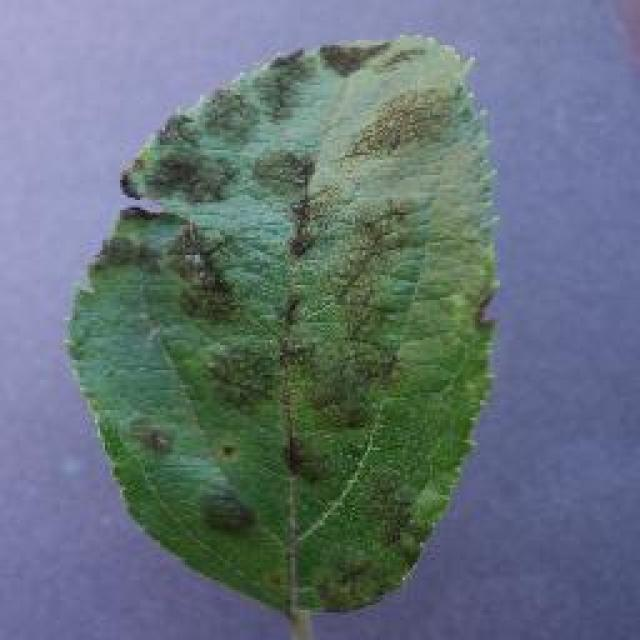apple scab disease: (62, 30, 502, 638)
